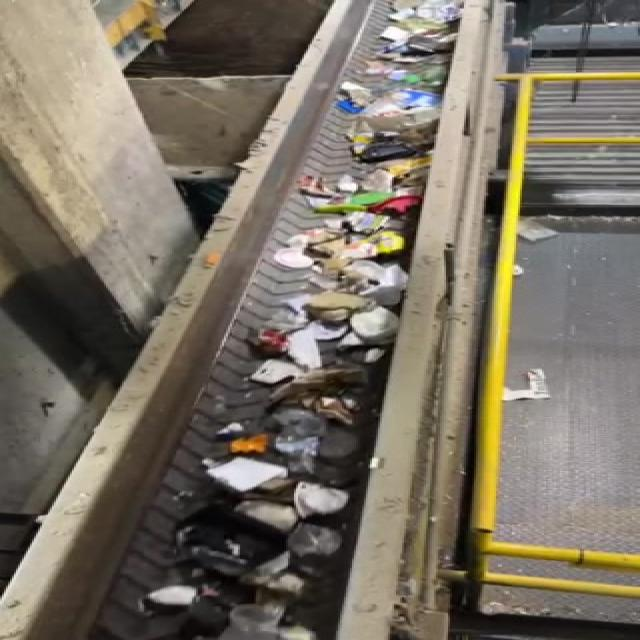paper: (202, 455, 296, 498)
